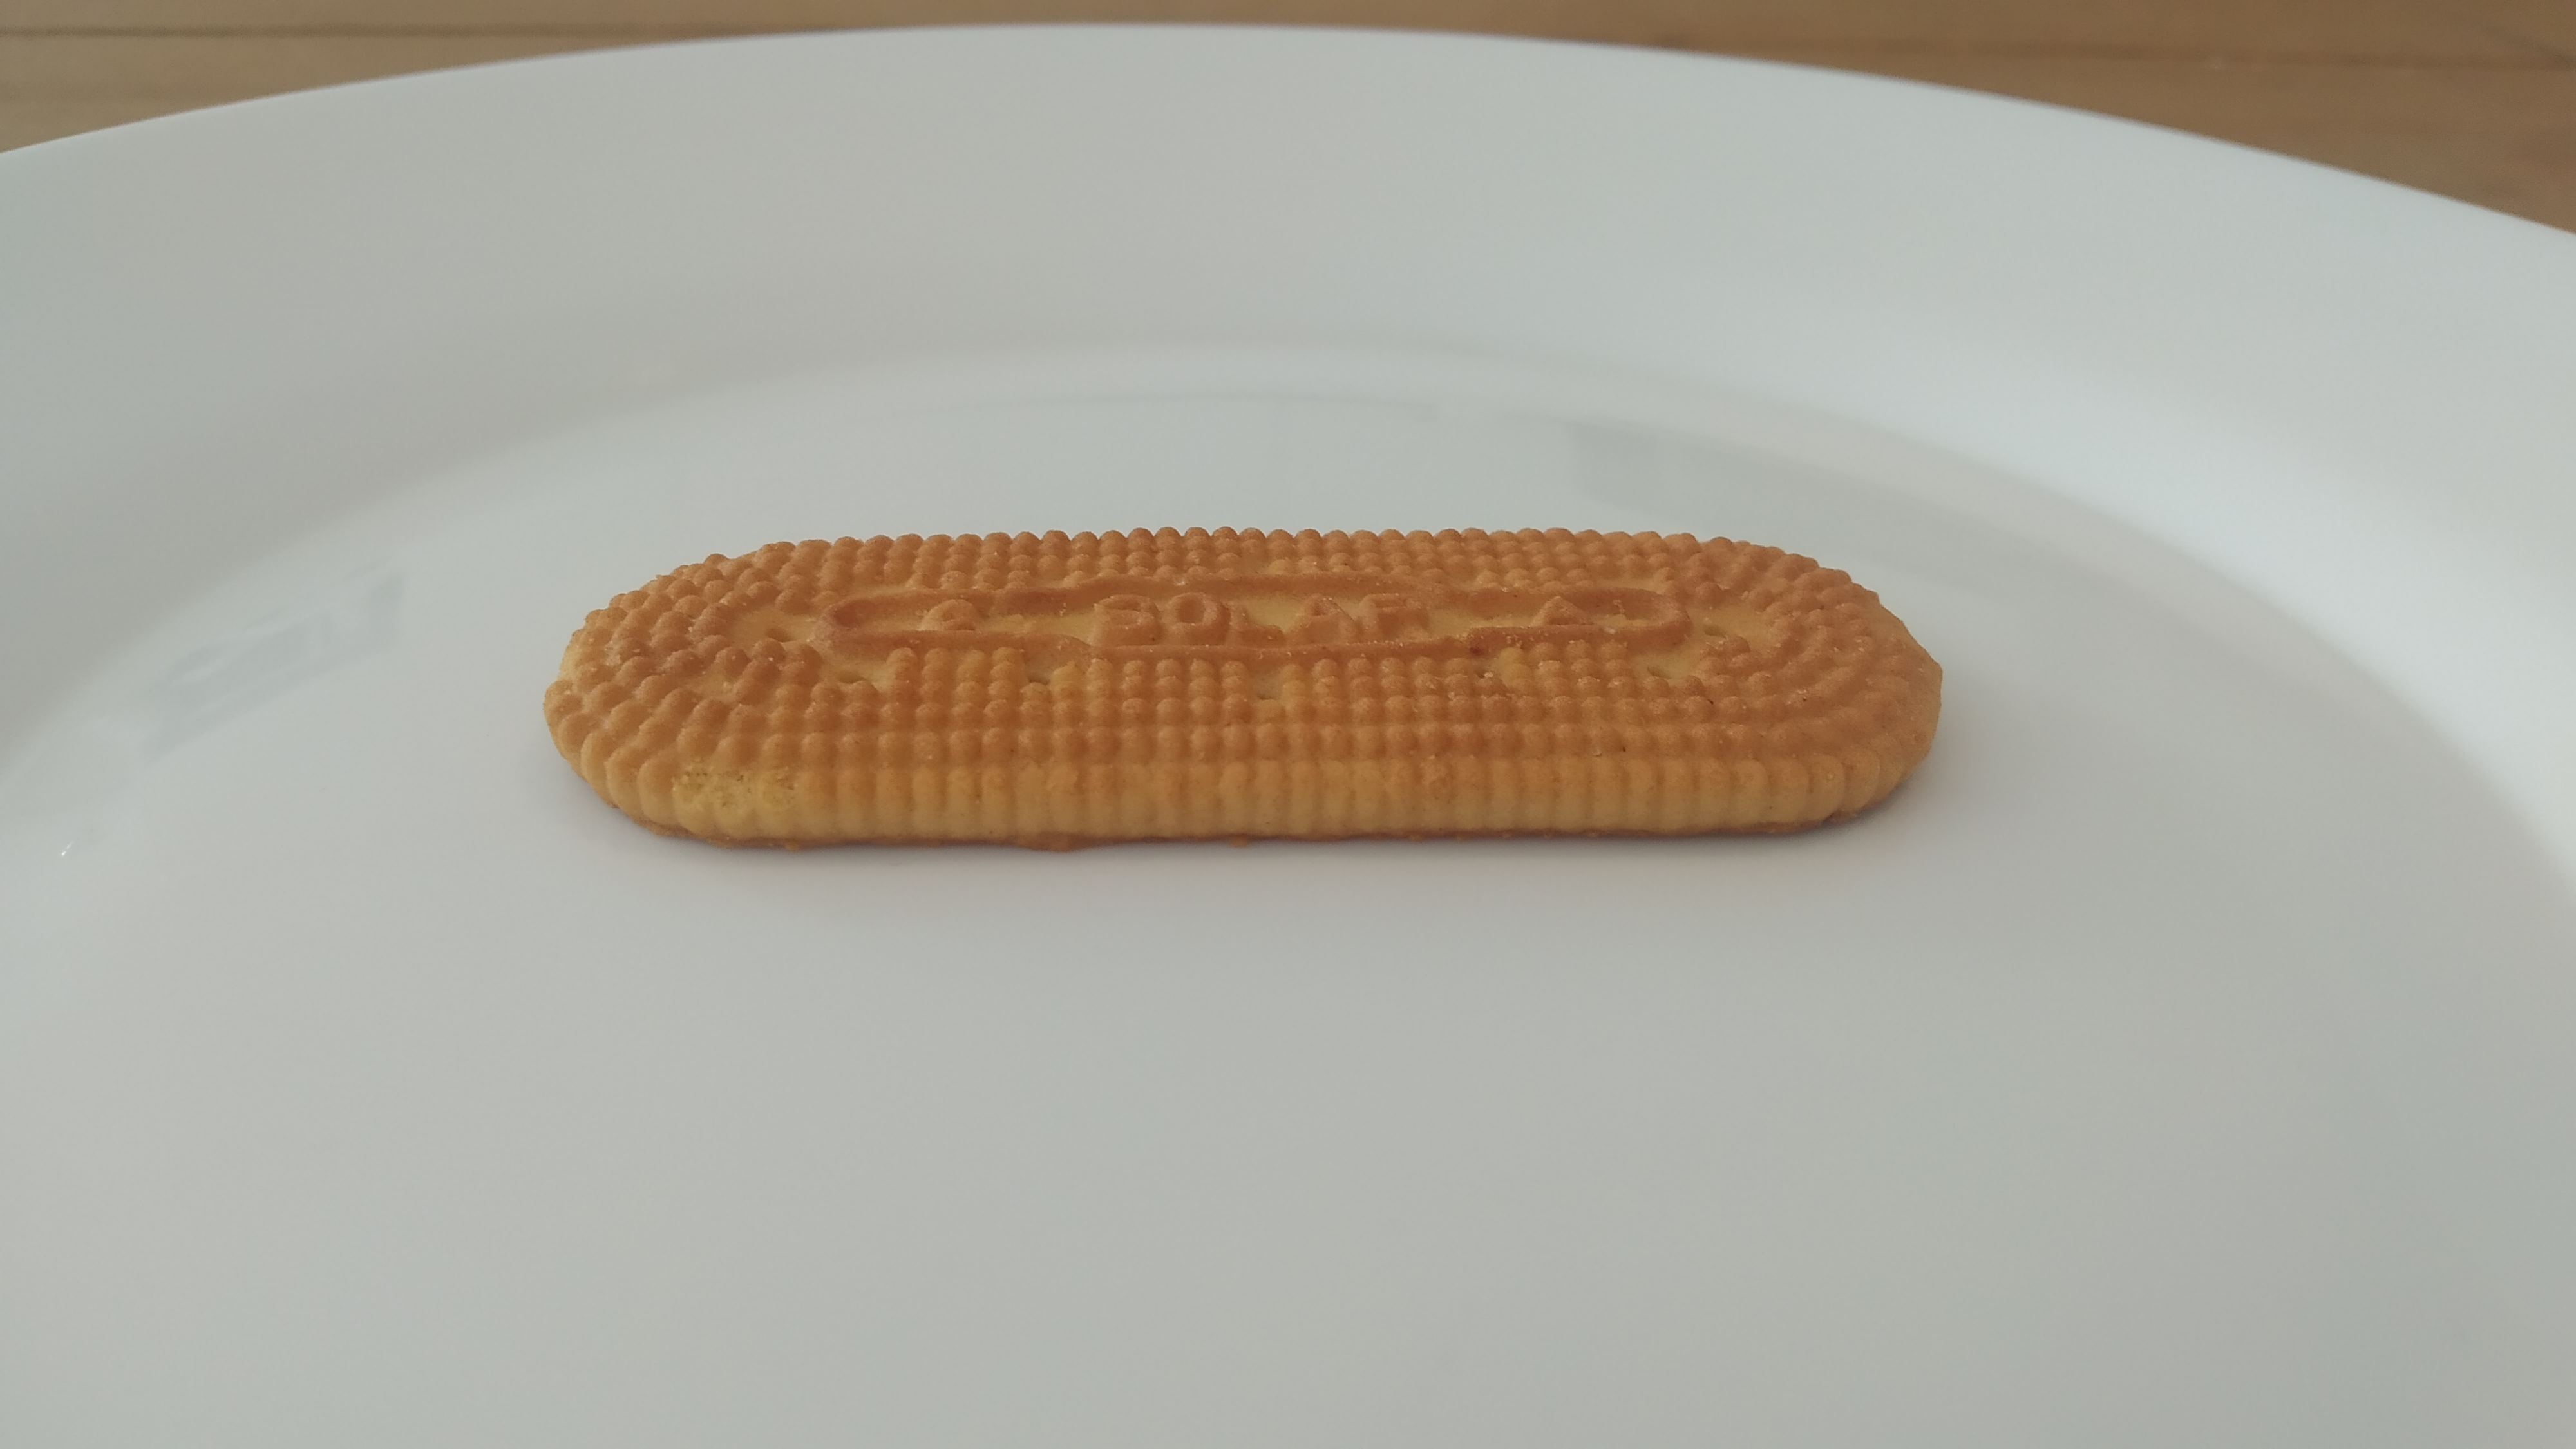solar: (543, 522, 1943, 847)
